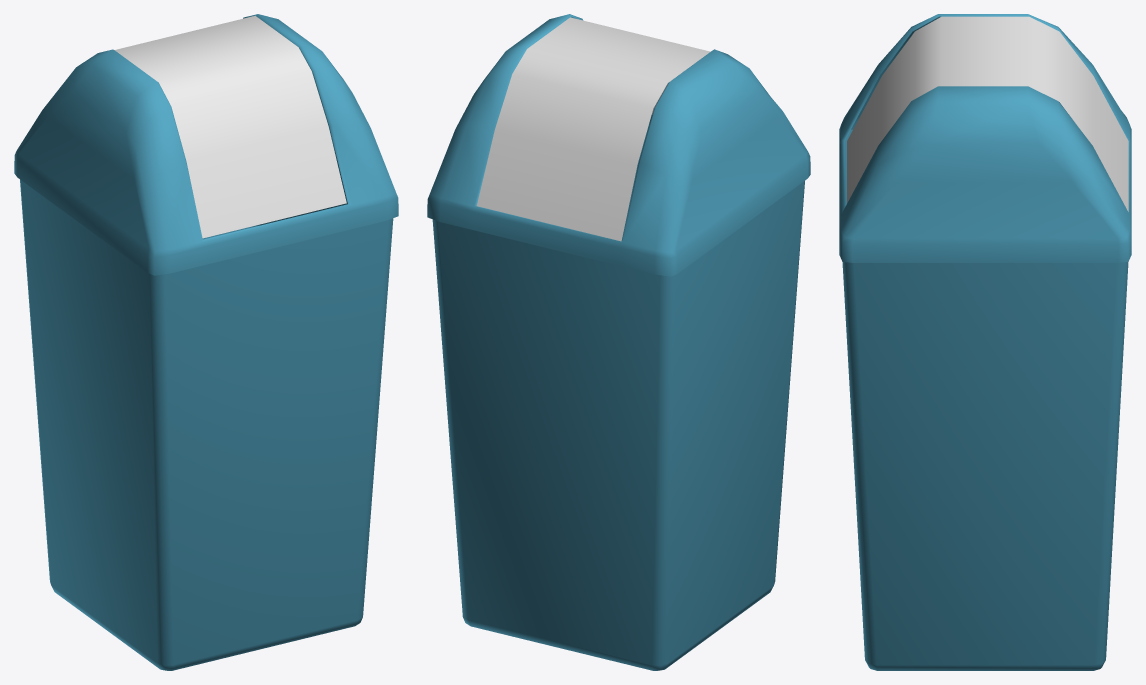
File: sampah_kertas.fbx
3 views of the same model, side by side, from view 1: azimuth 30°, elevation 25°; view 2: azimuth 150°, elevation 25°; view 3: azimuth 270°, elevation 25° (orthographic). The views are drawn at different scales.
Visible parts, largest first — view 1: Trashcan_01_body, Trashcan_01_cover, Trashcan_01_lid; view 2: Trashcan_01_body, Trashcan_01_cover, Trashcan_01_lid; view 3: Trashcan_01_body, Trashcan_01_cover, Trashcan_01_lid.
Part boxes in pixels (x1,y1,x2,y2): Trashcan_01_body: [20, 160, 393, 670]; Trashcan_01_cover: [14, 14, 398, 275]; Trashcan_01_lid: [114, 15, 346, 238]; Trashcan_01_body: [432, 124, 804, 670]; Trashcan_01_cover: [427, 14, 810, 276]; Trashcan_01_lid: [477, 17, 710, 241]; Trashcan_01_body: [842, 129, 1128, 670]; Trashcan_01_cover: [839, 14, 1131, 262]; Trashcan_01_lid: [847, 16, 1128, 211].
Size of the model in its own units: 24.4 by 52.88 by 24.4.
